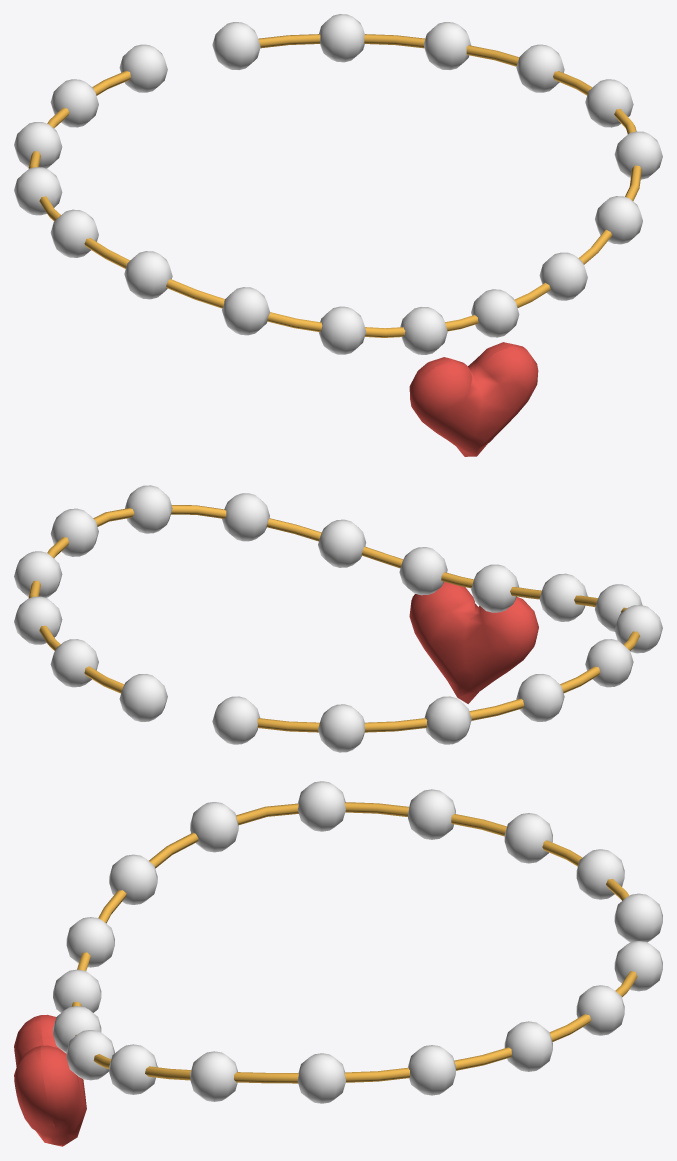
File: necklace.glb
The picture shows the model from 3 angles, top to bottom: view 1: azimuth 30°, elevation 25°; view 2: azimuth 150°, elevation 25°; view 3: azimuth 270°, elevation 25°; orthographic projection. The views are drawn at different scales.
Visible parts, largest first — view 1: necklace; view 2: necklace; view 3: necklace.
Part boxes in pixels (<box>): necklace: <box>14,14,662,456</box>; necklace: <box>14,485,662,752</box>; necklace: <box>14,781,662,1146</box>.
Size of the model in its own units: 0.9307 by 0.3376 by 0.8698.
